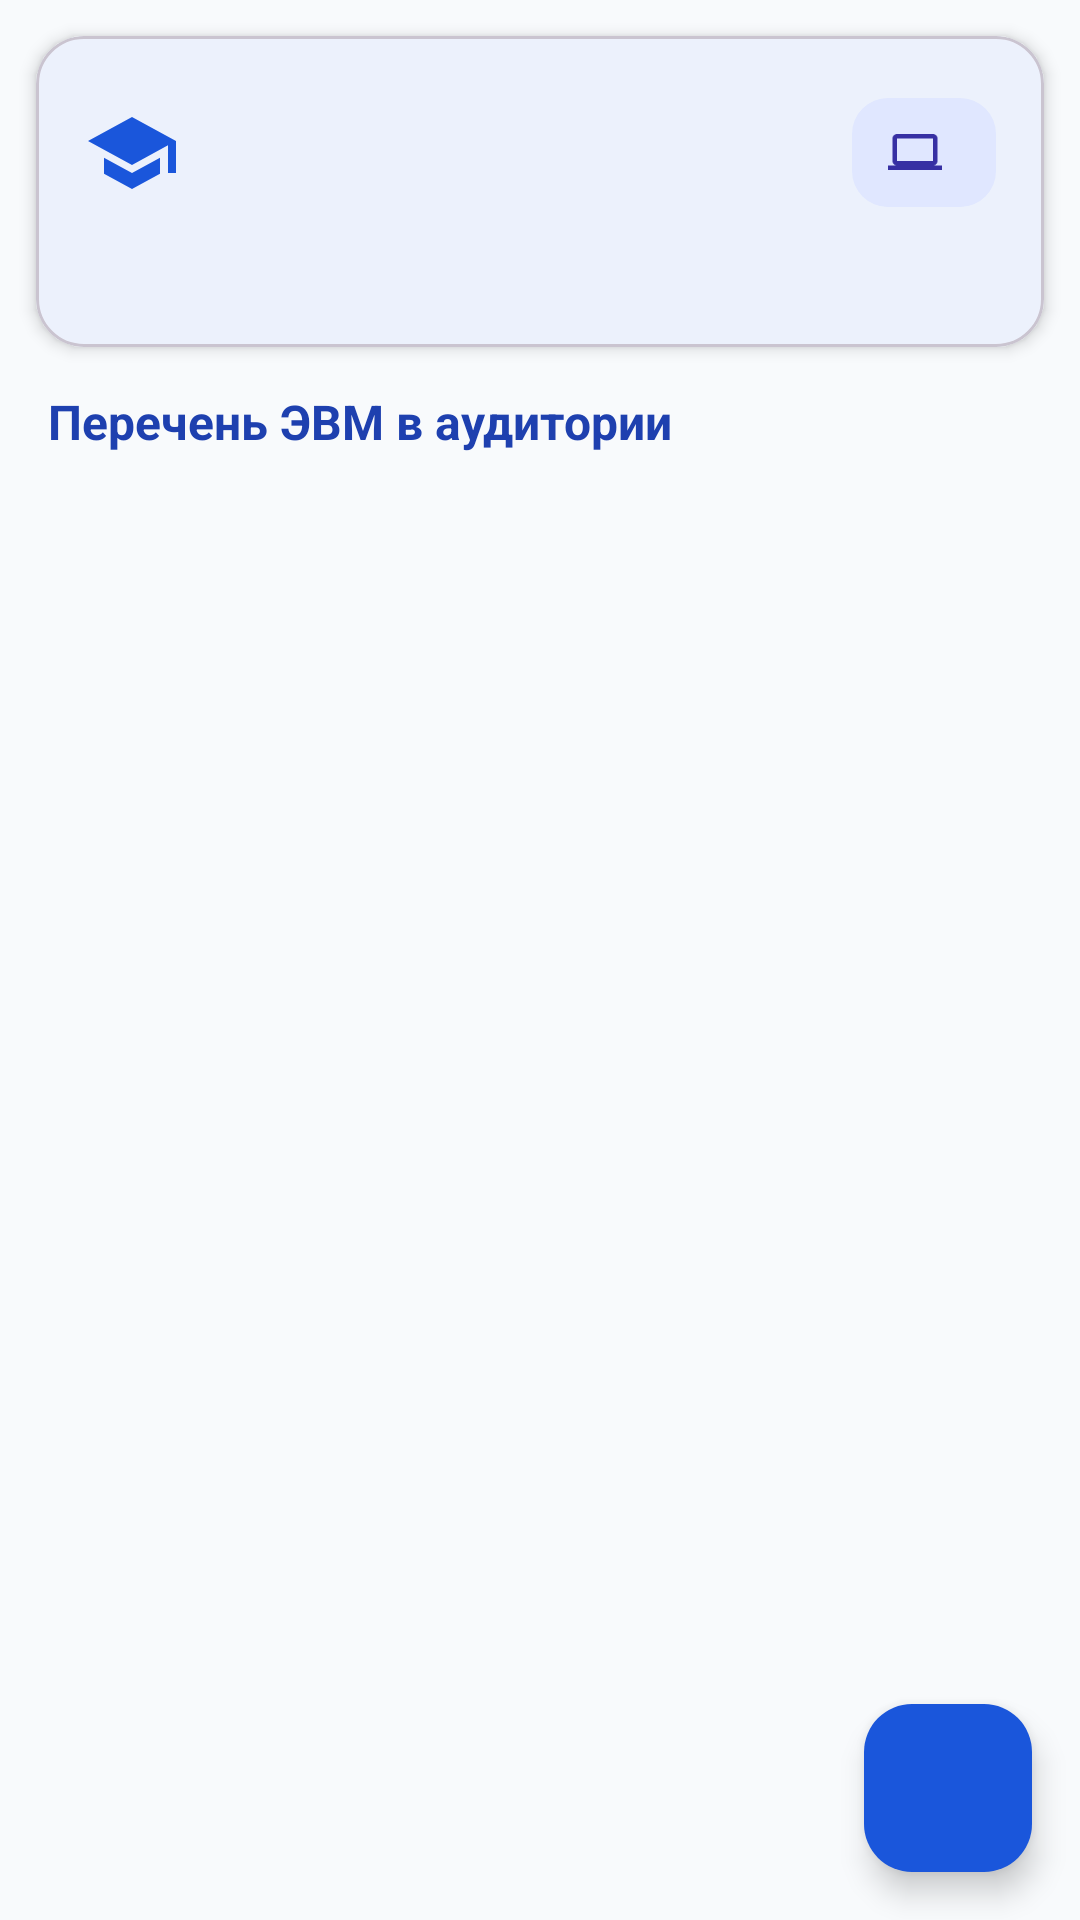

Icon click points for this 1080 × 1920 phone screenshot, format [x,y]:
classroom: [132,153]
computer: [915,152]
